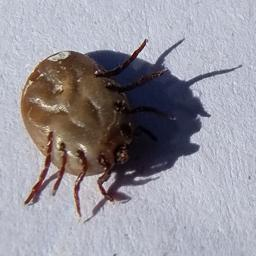Rhipicephalus sanguineus: (21, 39, 171, 218)
